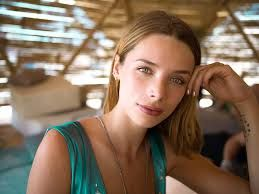no-mask: (112, 20, 196, 131)
